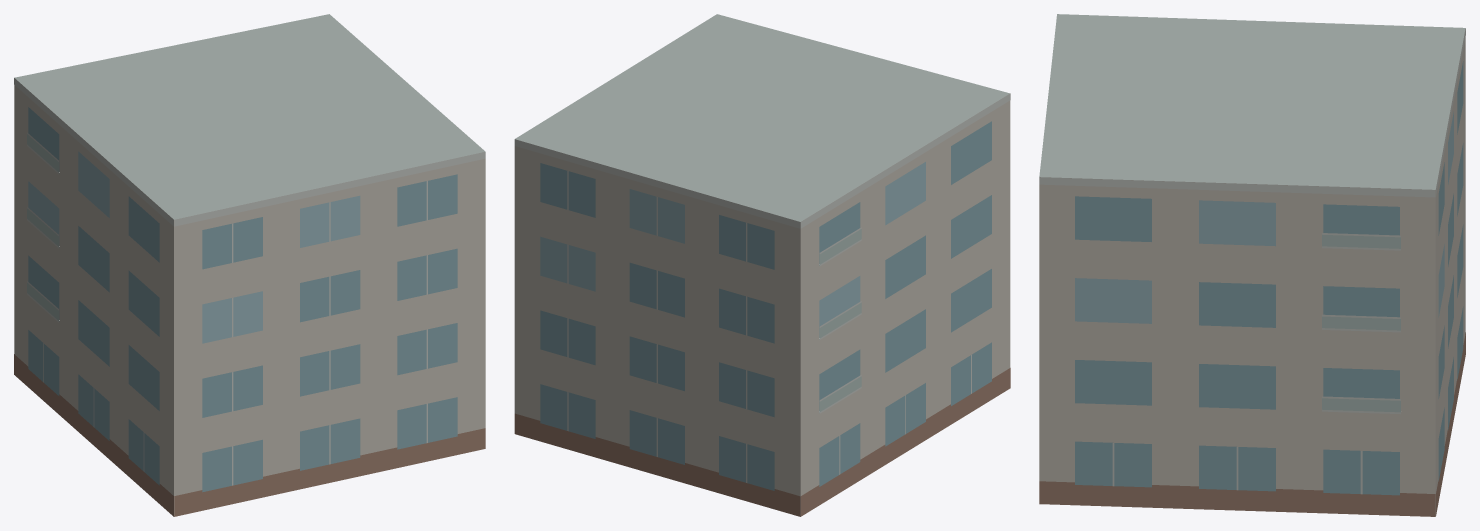
The model's file is survey-upis-32751301.glb.
The picture shows the model from 3 angles, left to right: view 1: azimuth 30°, elevation 25°; view 2: azimuth 150°, elevation 25°; view 3: azimuth 270°, elevation 25°; orthographic projection. The views are drawn at different scales.
Parts seen in each view (by area): view 1: survey-upis-32751301.tmp; view 2: survey-upis-32751301.tmp; view 3: survey-upis-32751301.tmp.
Boxes of the visible parts, bbox=[...] form: survey-upis-32751301.tmp: bbox=[14, 14, 485, 516]; survey-upis-32751301.tmp: bbox=[514, 14, 1010, 516]; survey-upis-32751301.tmp: bbox=[1039, 14, 1465, 516].
Size of the model in its own units: 12.12 by 10.5 by 12.42.
